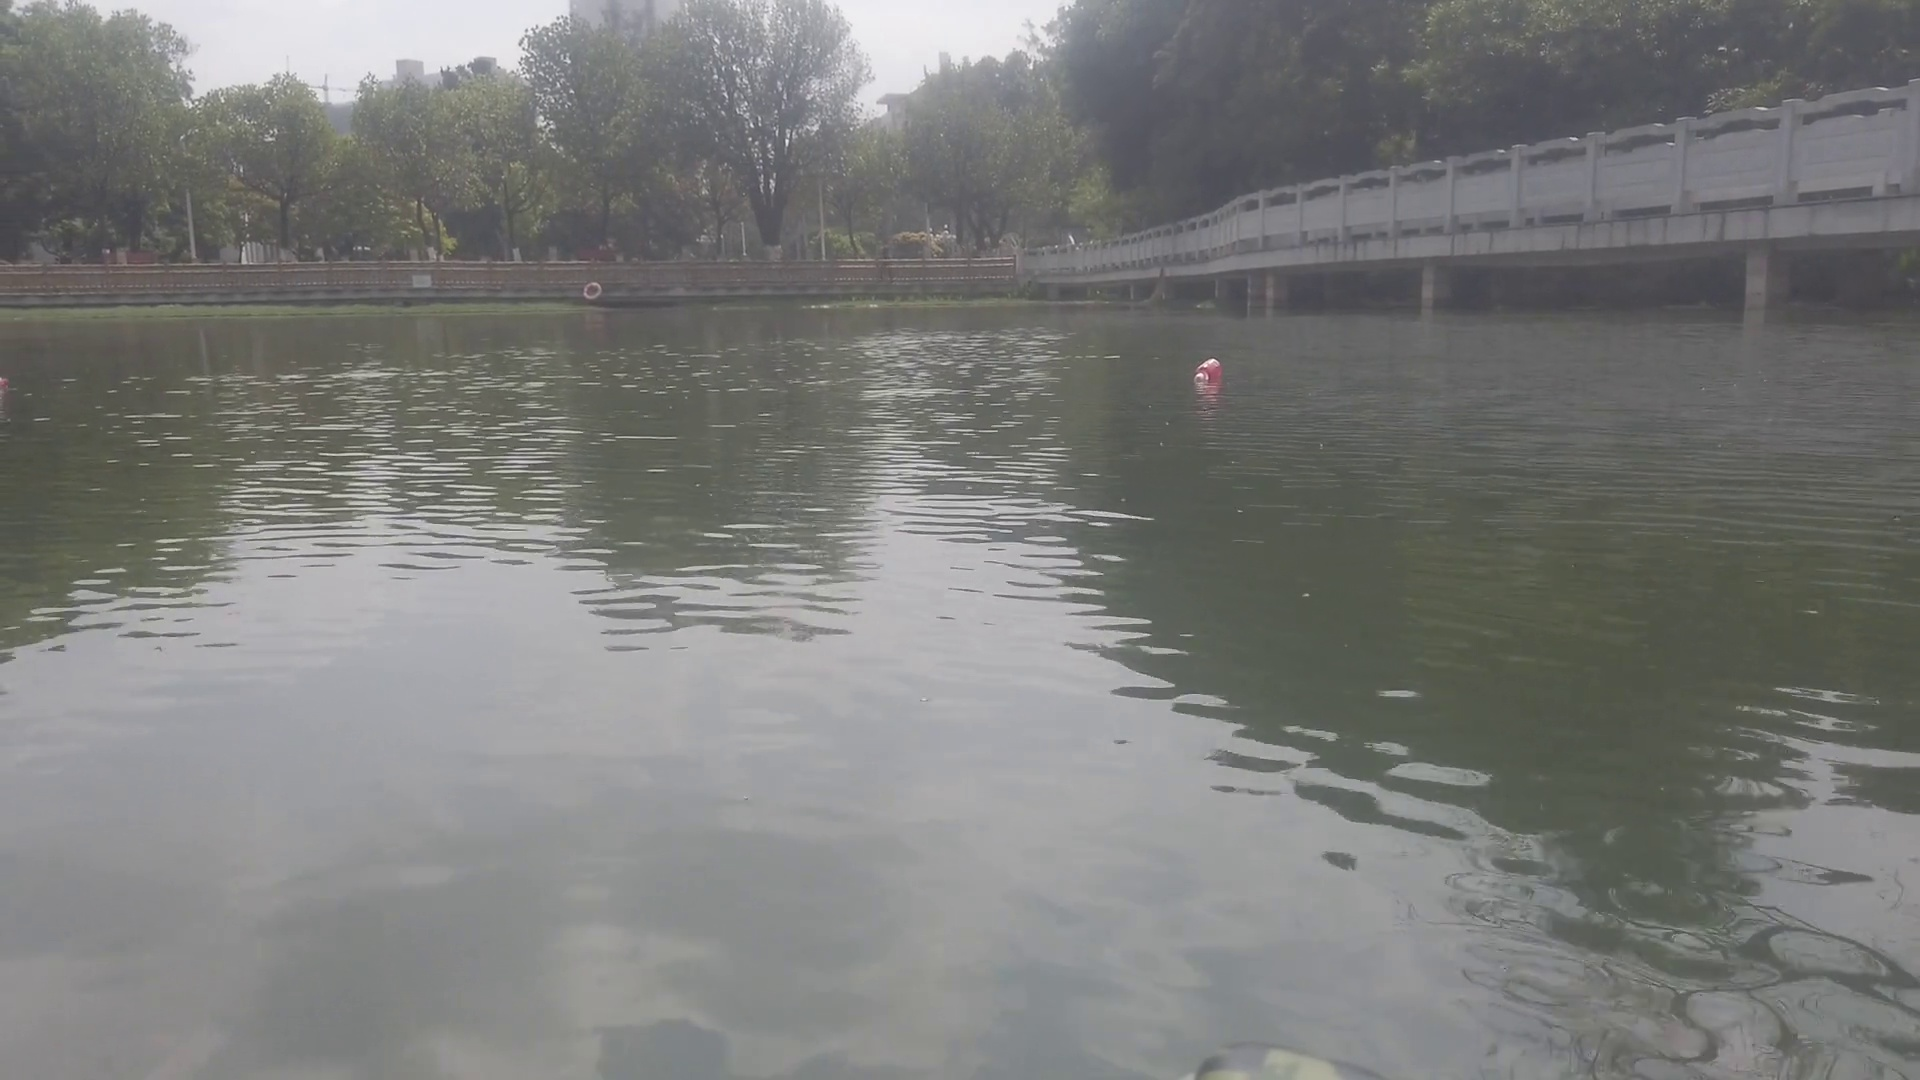bottle: (1192, 356, 1228, 388), (1, 373, 11, 386)
